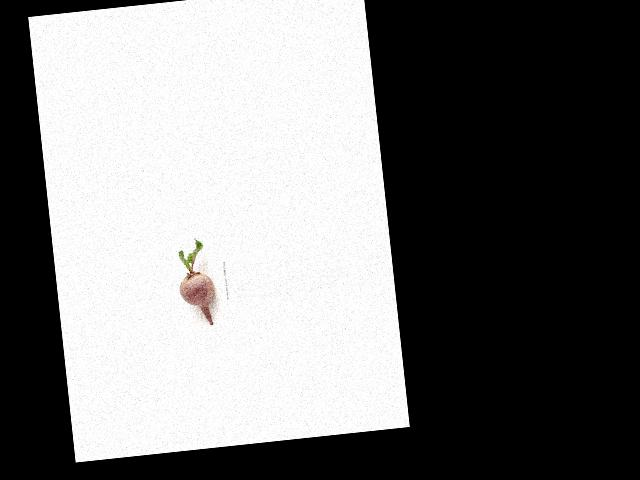beet: (174, 236, 218, 327)
